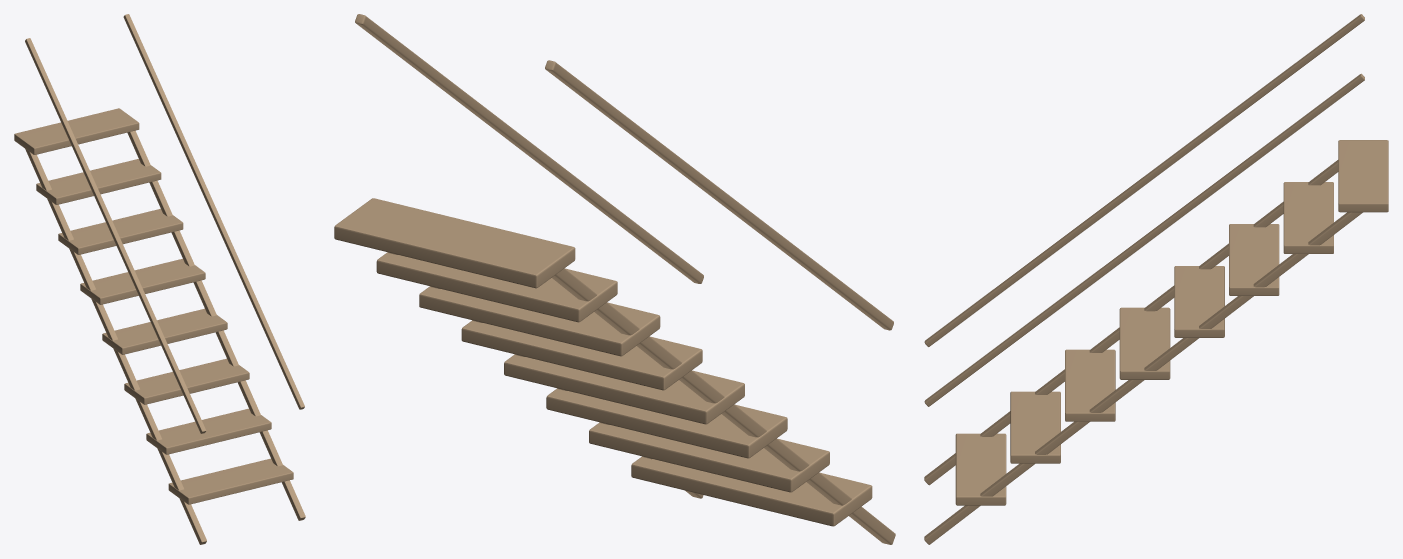
Rendered from exterior_stairs.glb.
The picture shows the model from 3 angles, left to right: view 1: azimuth 30°, elevation 25°; view 2: azimuth 150°, elevation 25°; view 3: azimuth 270°, elevation 25°; orthographic projection. The views are drawn at different scales.
Visible parts, largest first — view 1: exterior_stairs; view 2: exterior_stairs; view 3: exterior_stairs.
Boxes of the visible parts, left/top/right/bottom form: exterior_stairs: left=14, top=14, right=305, bottom=544; exterior_stairs: left=334, top=14, right=895, bottom=544; exterior_stairs: left=924, top=14, right=1388, bottom=544.
Size of the model in its own units: 0.9 by 3.08 by 2.76.
